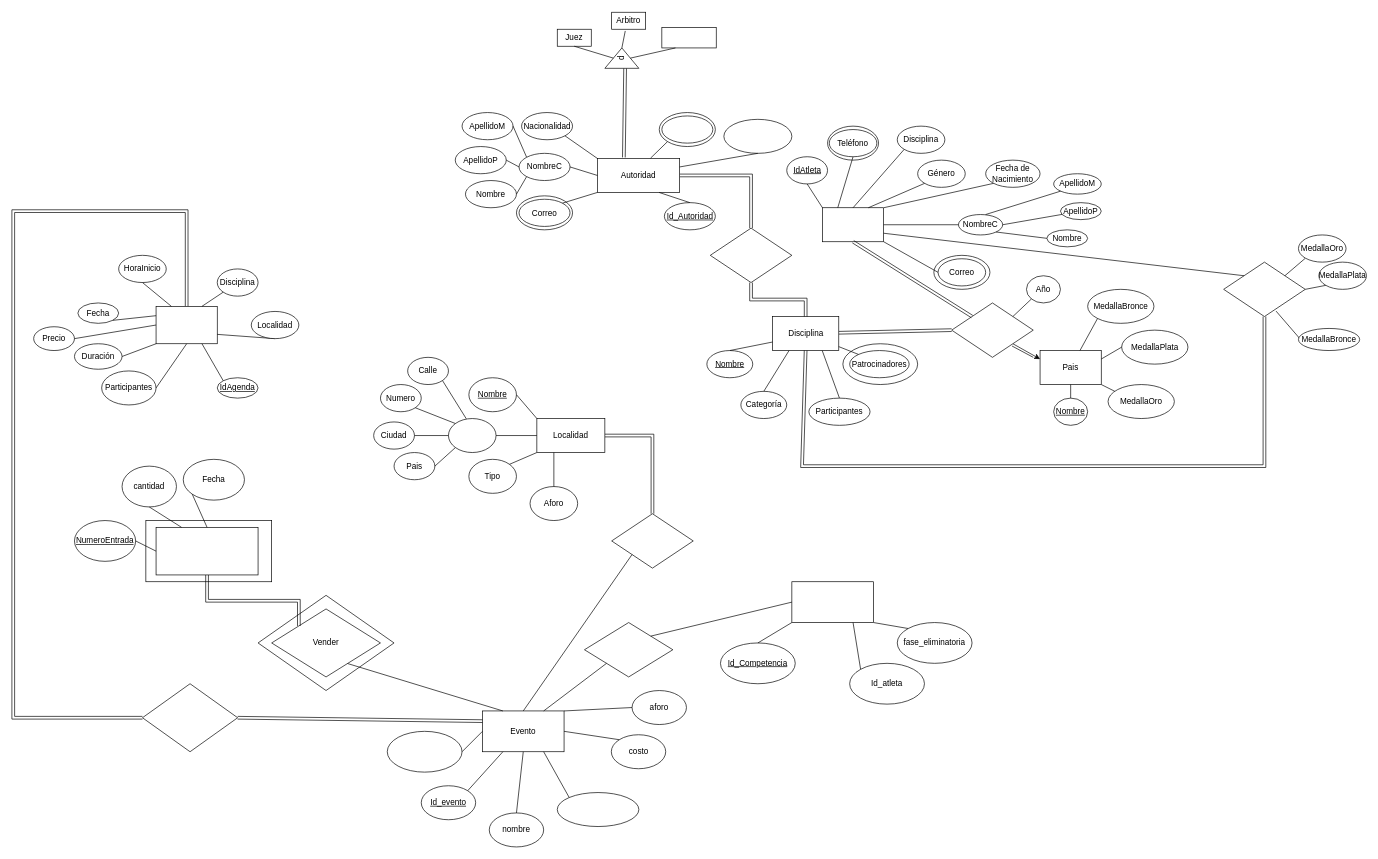
Some shapes in this 1378 by 859 pixel diagram are drawn without their labels. The box of each missing label's shape, as (x1, y1, x2, y2) in pixels:
Agenda: (155, 306, 217, 344)
Asignar: (611, 513, 693, 568)
Atleta: (822, 207, 884, 242)
Competencia: (791, 581, 873, 623)
Dirección: (448, 418, 496, 453)
Entrada: (155, 527, 258, 575)
Entrenador: (661, 27, 716, 48)
fase: (387, 731, 462, 772)
FechaNacimiento: (723, 119, 792, 153)
Ganar: (1223, 261, 1305, 317)
Incluir: (584, 622, 673, 677)
precio:_final: (557, 792, 639, 827)
Registrar: (142, 683, 238, 752)
Representar: (951, 302, 1033, 357)
Supervisar: (710, 227, 792, 283)
Telefono: (661, 115, 713, 143)
